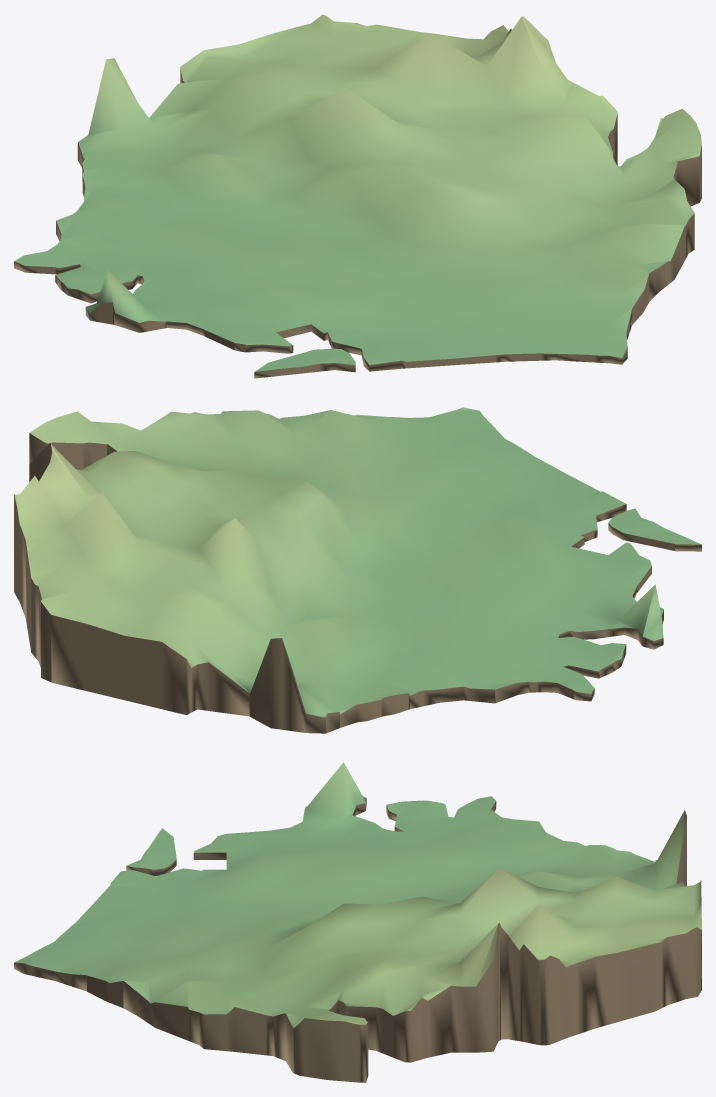
Rendered from SLE.glb.
The picture shows the model from 3 angles, top to bottom: view 1: azimuth 30°, elevation 25°; view 2: azimuth 150°, elevation 25°; view 3: azimuth 270°, elevation 25°; orthographic projection. The views are drawn at different scales.
Visible parts, largest first — view 1: SLE; view 2: SLE; view 3: SLE.
Boxes of the visible parts, x1,y1,x2,y2 form: SLE: [14, 14, 701, 378]; SLE: [14, 407, 701, 733]; SLE: [14, 762, 701, 1082].
Size of the model in its own units: 1.72 by 0.338 by 1.78.
